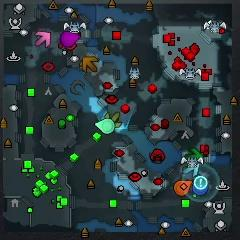Other: (194, 175, 208, 189), (195, 176, 207, 189)
p1: (194, 182, 208, 195)
p2: (95, 118, 116, 135)
p3: (61, 32, 80, 47)
p5: (173, 178, 194, 196)
x1: (34, 31, 52, 48)
x2: (105, 111, 121, 126)
x3: (185, 159, 200, 178)
x4: (184, 147, 204, 160)
x5: (83, 56, 99, 73)
